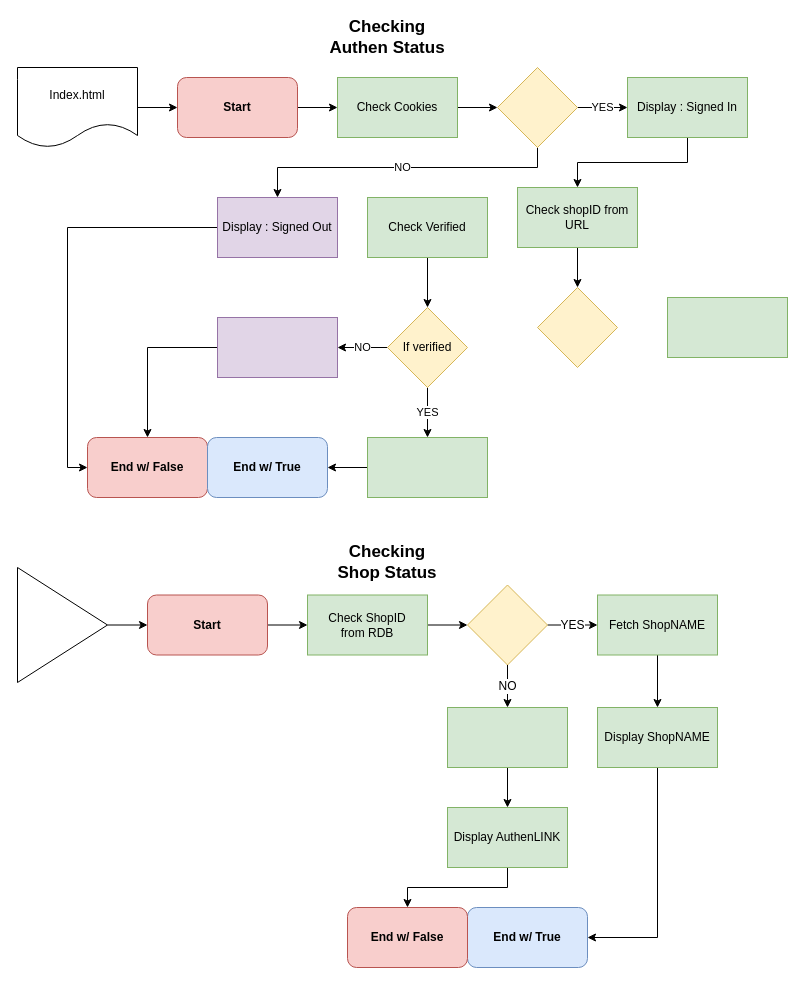
Image size: 805x985. Some labels were removed from this diagram. The centre of each missing label's shape, as x and y in pixels:
"Display : Unverified Icon" belongs at point 277,347.
"Display : Verified Icon" belongs at point 427,467.
"End w/ True of Authen Status" belongs at point 62,624.
"Generate AuthenLINK" belongs at point 507,737.
"If cookied" belongs at point 537,107.
"If ShopID" belongs at point 507,624.
"If shopID showed" belongs at point 577,327.
"Write shopID to RDB" belongs at point 727,327.
